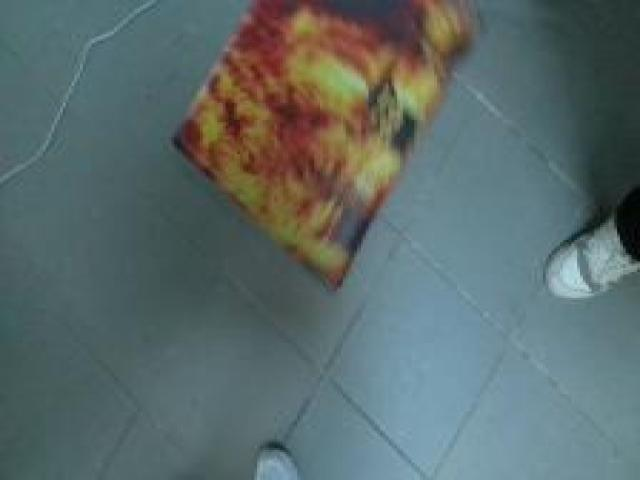fire-poster: (166, 0, 483, 291)
